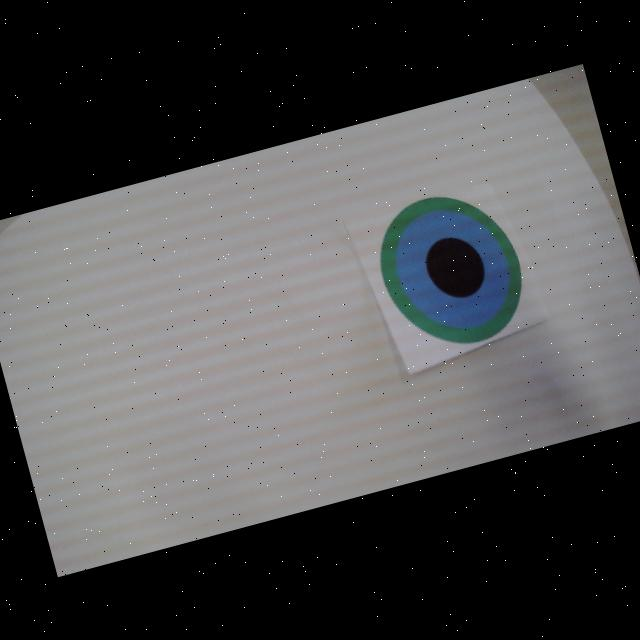COGNITIVE: (366, 178, 537, 362)
